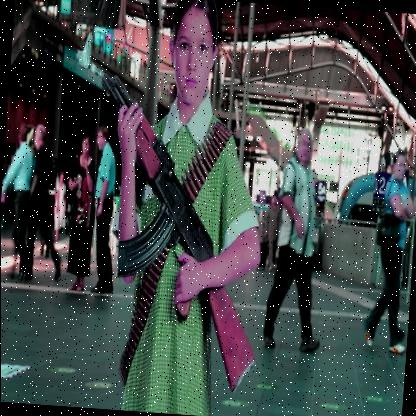rifle: (65, 56, 280, 402)
